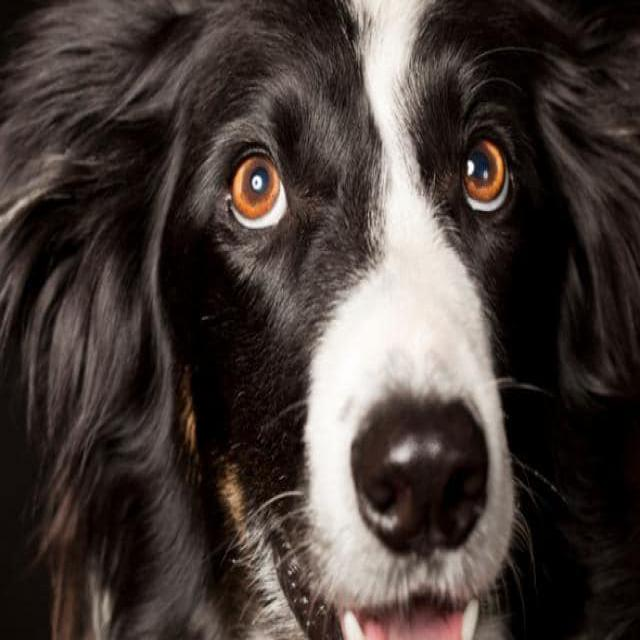eye: (222, 140, 295, 237), (453, 122, 518, 225)
